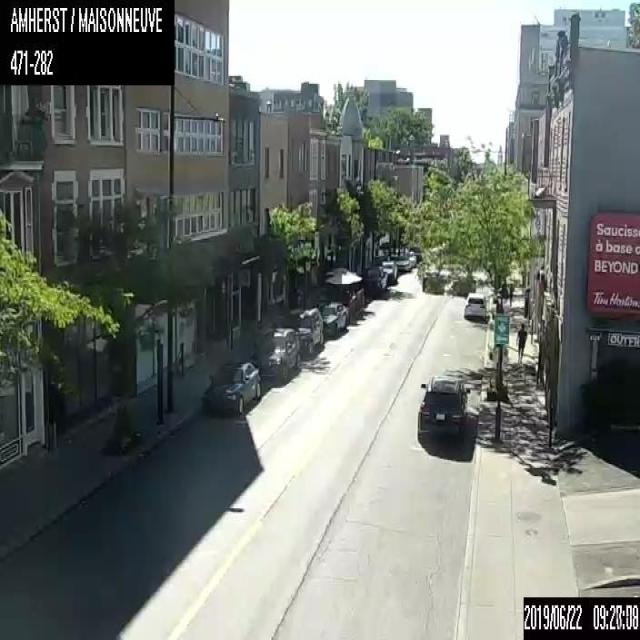pedestrian: (515, 323, 527, 364), (508, 281, 513, 307)
vehicle: (417, 374, 469, 443), (202, 361, 260, 413), (244, 327, 299, 380), (281, 306, 323, 356), (320, 300, 348, 336), (464, 292, 486, 319), (365, 266, 387, 288), (422, 272, 444, 293), (380, 260, 397, 282), (395, 254, 410, 270), (406, 250, 416, 266)
